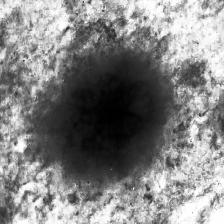Benign Marking or Mole: (50, 63, 160, 171)
